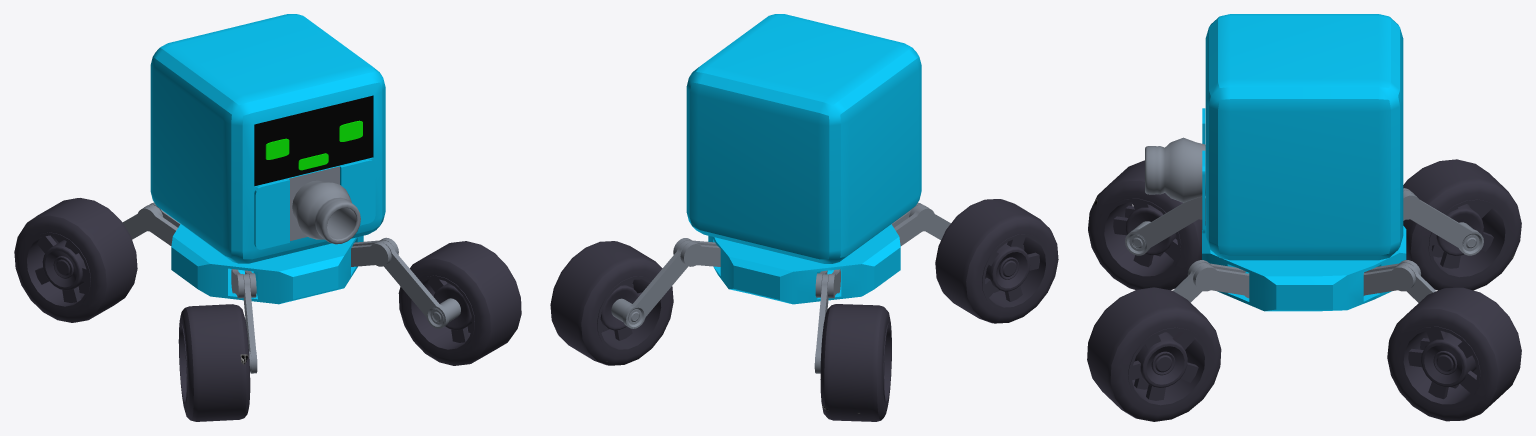
File: Tank7.fbx
3 renders of one model, left to right at view 1: azimuth 30°, elevation 25°; view 2: azimuth 150°, elevation 25°; view 3: azimuth 270°, elevation 25°, orthographic. The views are drawn at different scales.
Visible parts, largest first — view 1: face6; view 2: face6; view 3: face6.
Part boxes in pixels (x1,y1,x2,y2): face6: (14, 14, 521, 421); face6: (550, 14, 1058, 421); face6: (1087, 14, 1521, 421).
Size of the model in its own units: 60.19 by 48.73 by 64.
